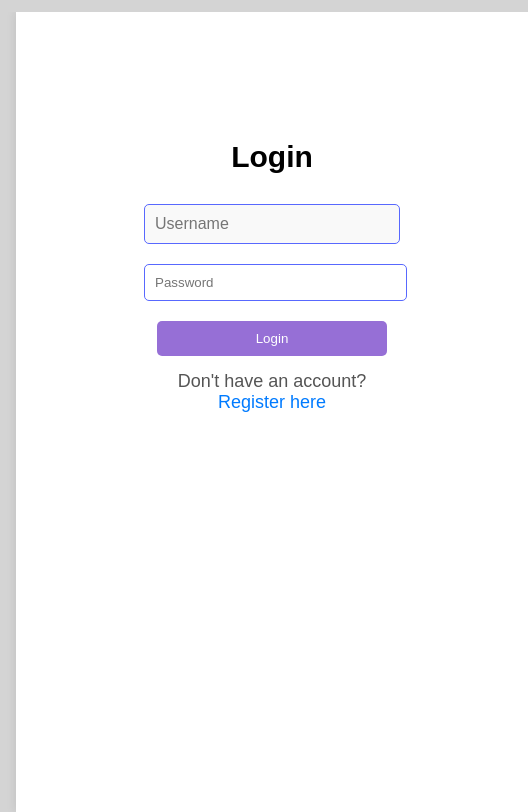
Test: Login Component › handles login failure
Fill and submit form
Type "wronguser" into the field with placeholder "Username". click: (272, 224)
box: x1=144 y1=204 x2=400 y2=244
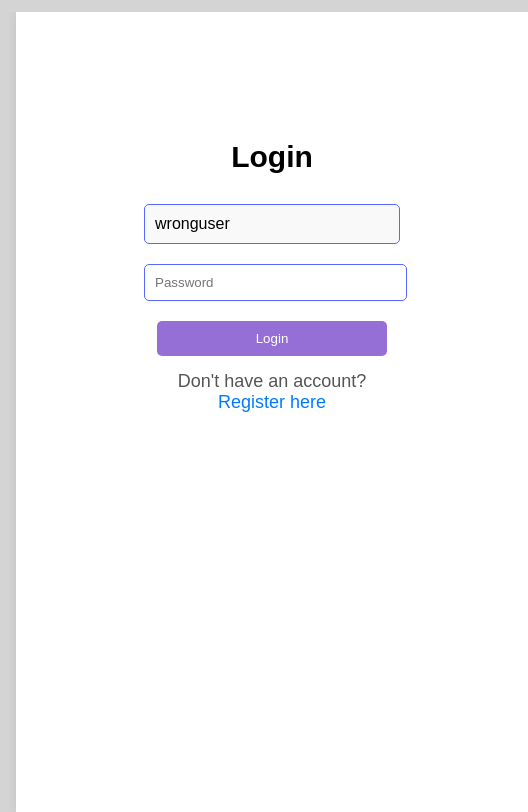
Type "wrongpass" into the password field with placeholder "Password". click: (275, 282)
box: x1=144 y1=264 x2=407 y2=301
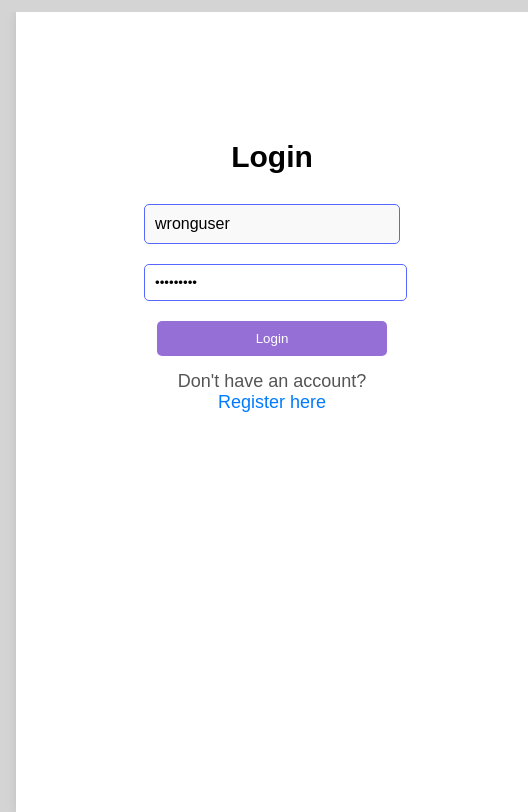
Submit form
Click the button "Login". click: (272, 338)
box: x1=157 y1=321 x2=387 y2=356
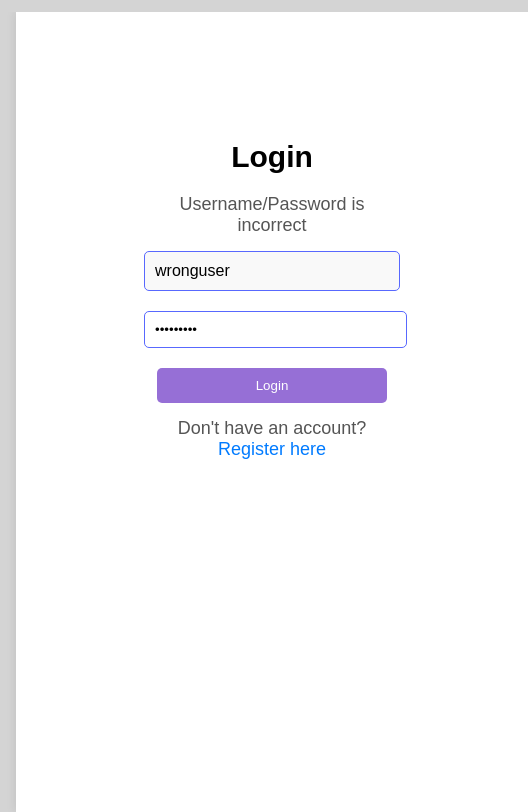
Expected: the text "Username/Password is incorrect" is shown, x1=180 y1=194 x2=365 y2=235
